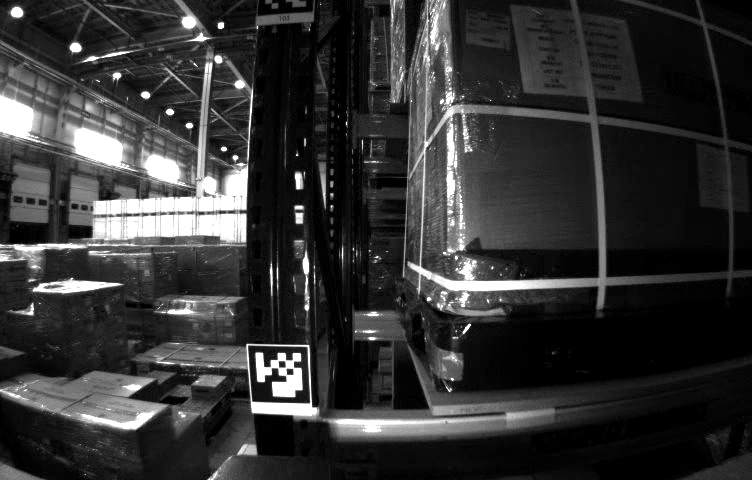True Barcode: (463, 7, 512, 55)
